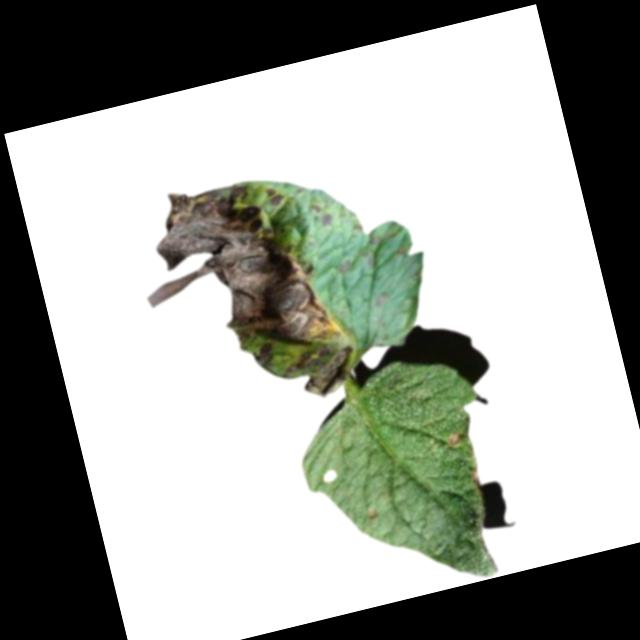Early_blight: (121, 158, 362, 430), (467, 465, 484, 494), (444, 431, 464, 451)
